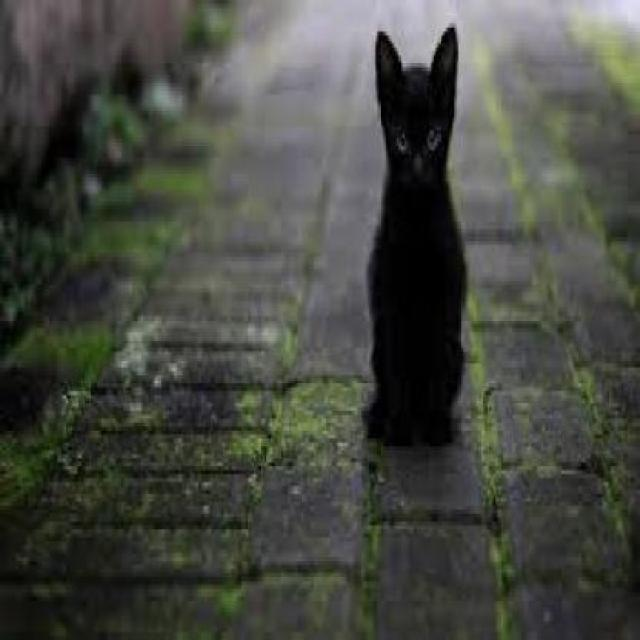animals: (357, 19, 469, 455)
